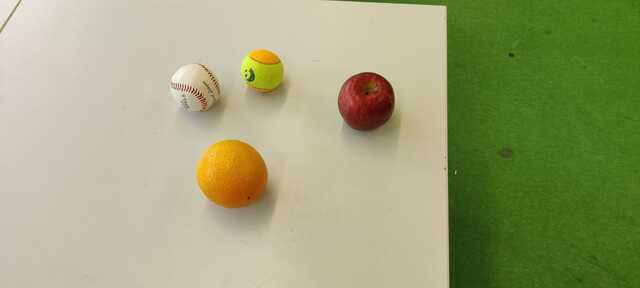013_apple: (338, 72, 395, 131)
017_orange: (195, 140, 269, 208)
055_baseball: (169, 62, 221, 114)
056_tennis_ball: (240, 48, 286, 93)
